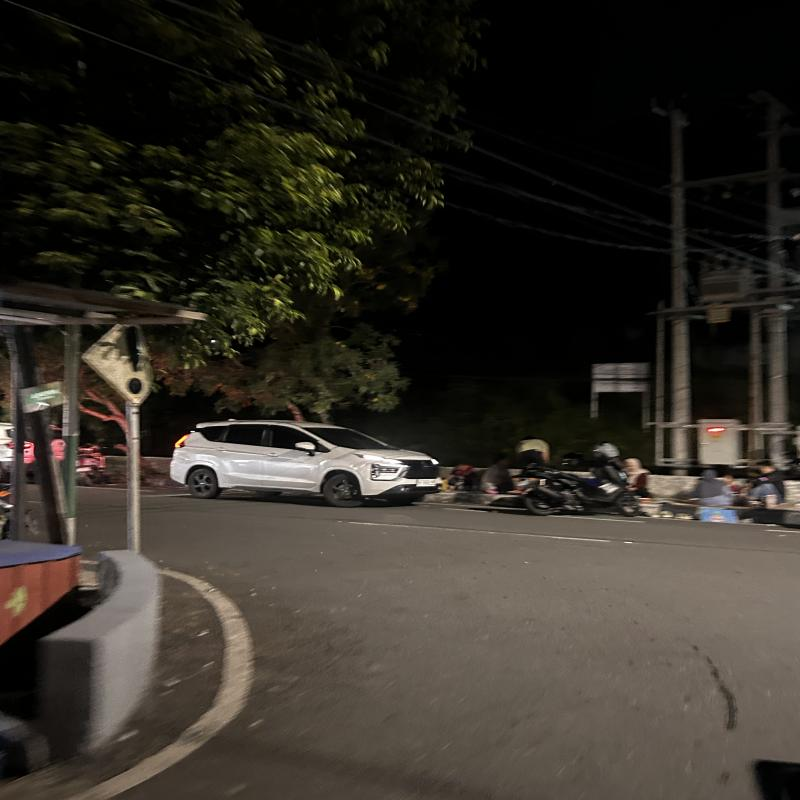license plate on a car: (416, 477, 437, 488)
